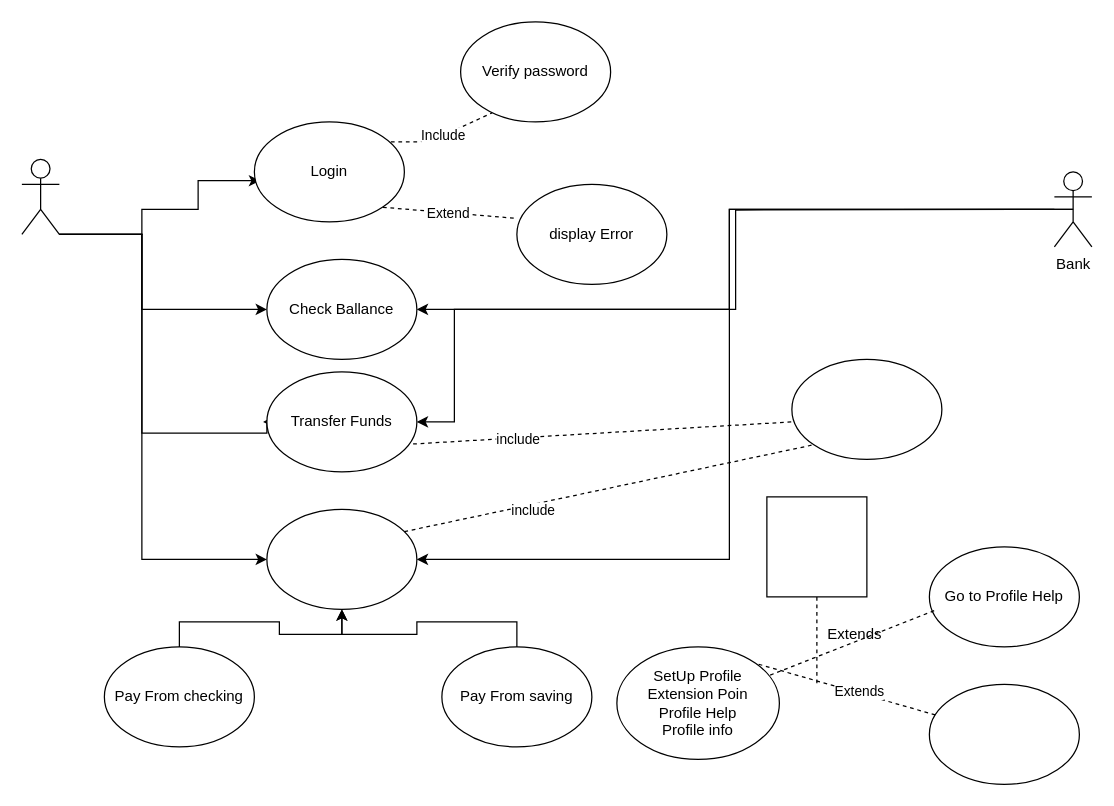
This 1114x806 diagram has some shape labels left out. Here are the shapes that lost their labels. From the top down, the box of each, then its label:
(21, 158, 59, 234): Actor
(791, 358, 942, 459): Verify Sufficient Funds
(266, 508, 417, 609): make Payment
(766, 496, 867, 597): If user click help link, go to profile help
(928, 683, 1079, 784): Show Privacy Info
